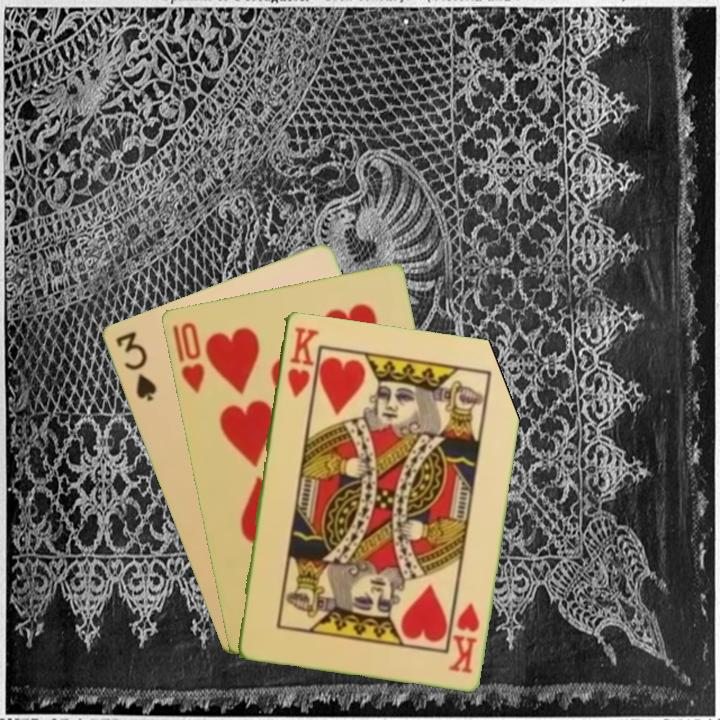10h: (168, 318, 207, 395)
3s: (111, 327, 159, 404)
Kh: (444, 599, 482, 676), (283, 323, 320, 400)
